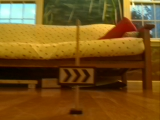right: (58, 66, 97, 85)
